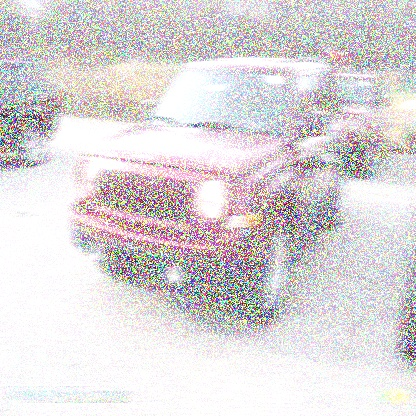Vehicle: (70, 57, 346, 327)
